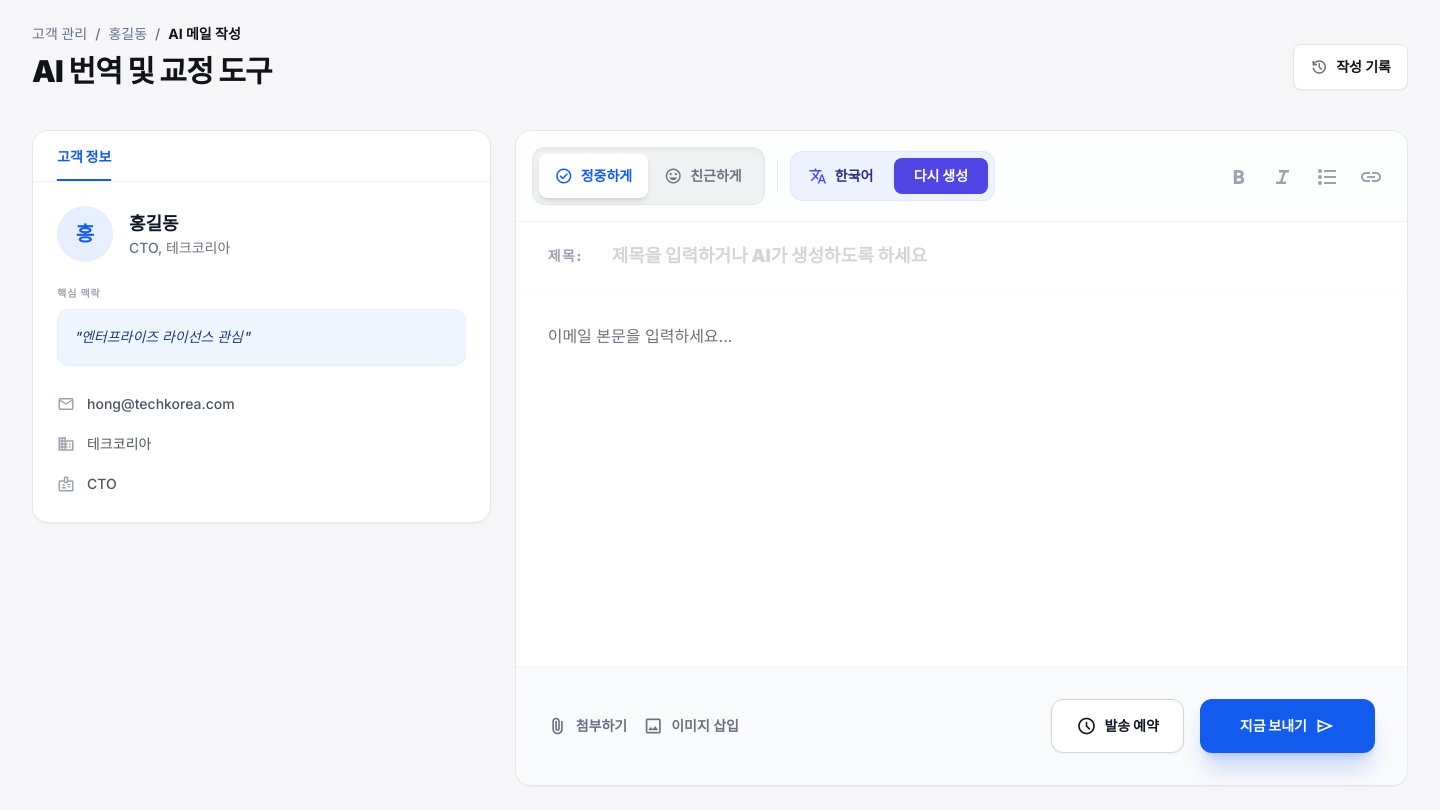
Test: EmailComposer › 지금 보내기 › 제목/본문이 없으면 에러 토스트를 표시한다
Click the button "지금 보내기". click: (1287,726)
box: [1200,699,1375,753]
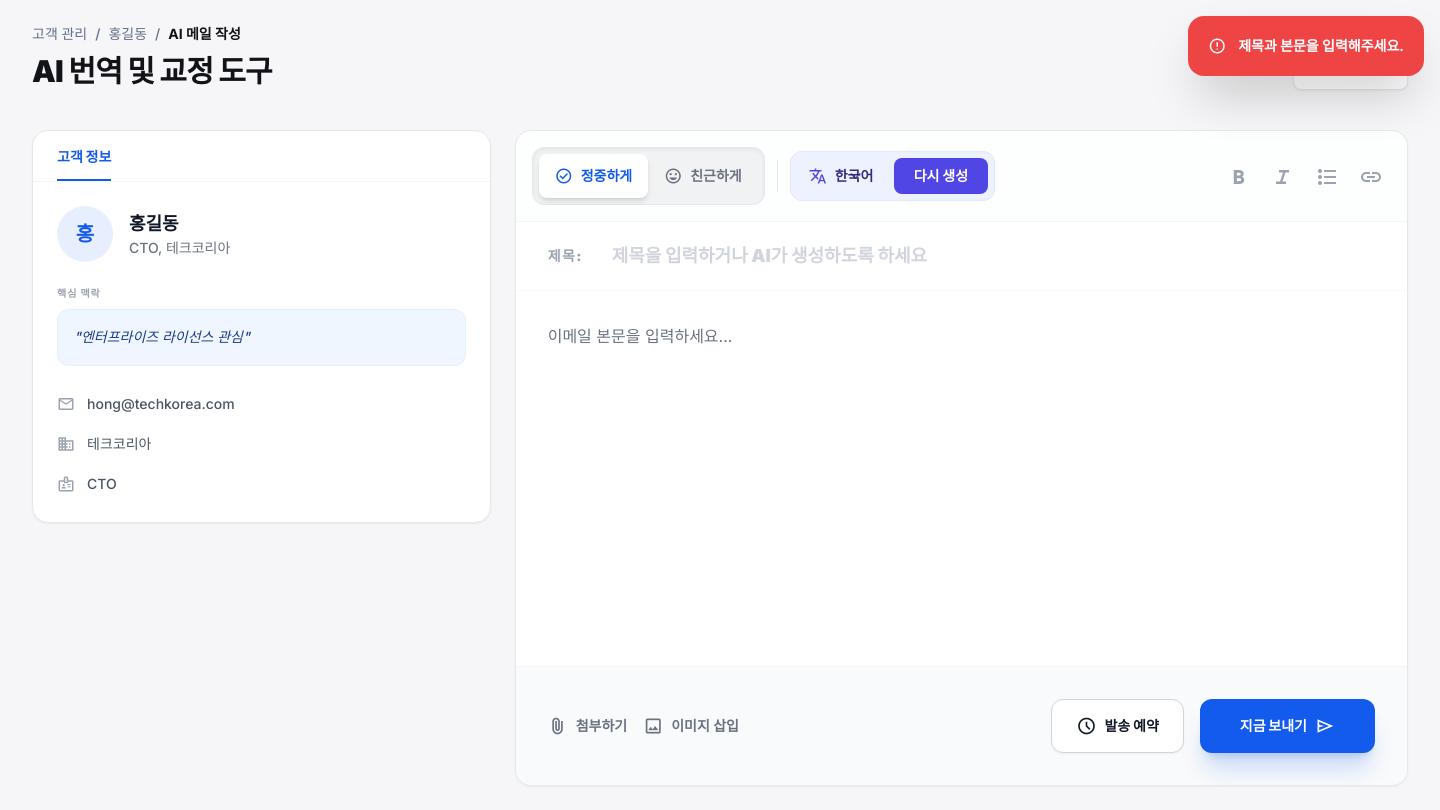
Expected: the text "제목과 본문을 입력해주세요." is shown, [1188,16,1424,76]
